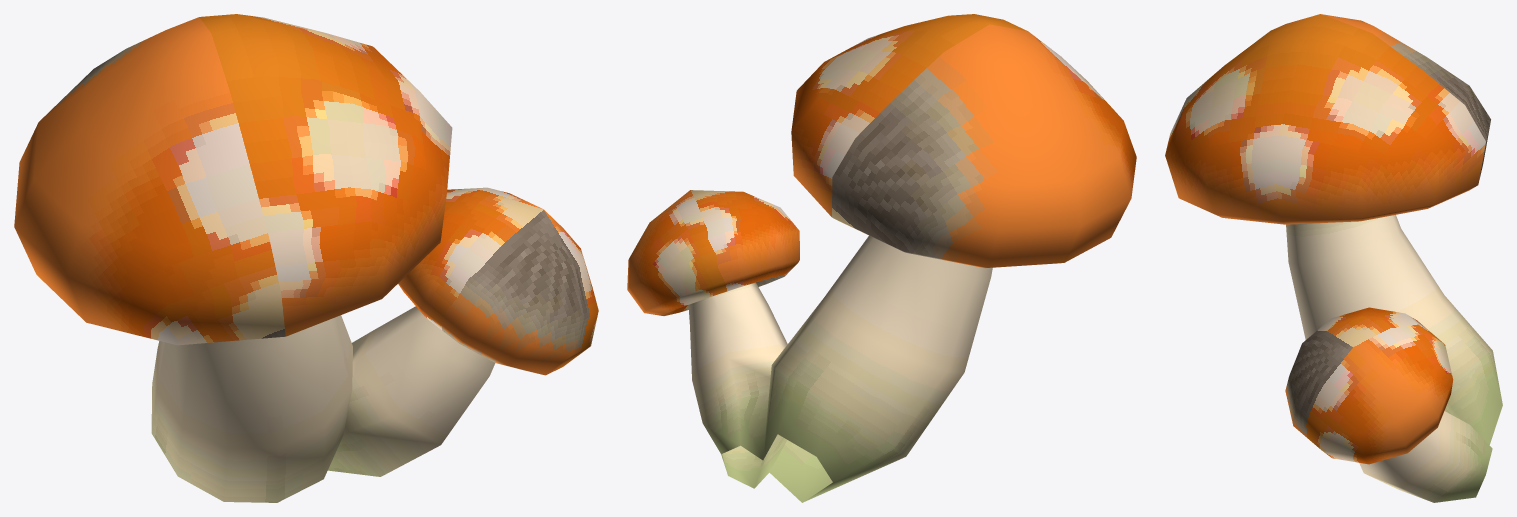
Rendered from int_msh_lampB.dae.
3 views of the same model, side by side, from view 1: azimuth 30°, elevation 25°; view 2: azimuth 150°, elevation 25°; view 3: azimuth 270°, elevation 25° (orthographic). The views are drawn at different scales.
Visible parts, largest first — view 1: bs_j_1_0, bs_j_0_0; view 2: bs_j_1_0, bs_j_0_0; view 3: bs_j_1_0, bs_j_0_0.
Boxes of the visible parts, x1=… form: bs_j_1_0: x1=14, y1=14, x2=598, y2=375; bs_j_0_0: x1=151, y1=306, x2=495, y2=502; bs_j_1_0: x1=627, y1=14, x2=1136, y2=315; bs_j_0_0: x1=688, y1=235, x2=992, y2=502; bs_j_1_0: x1=1165, y1=14, x2=1490, y2=464; bs_j_0_0: x1=1286, y1=215, x2=1502, y2=502.
Size of the model in its own units: 22.26 by 21.01 by 15.56.
Materials: 2 (2 with a texture image).
